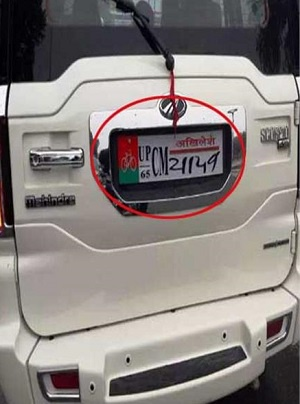plate: (112, 124, 233, 194)
